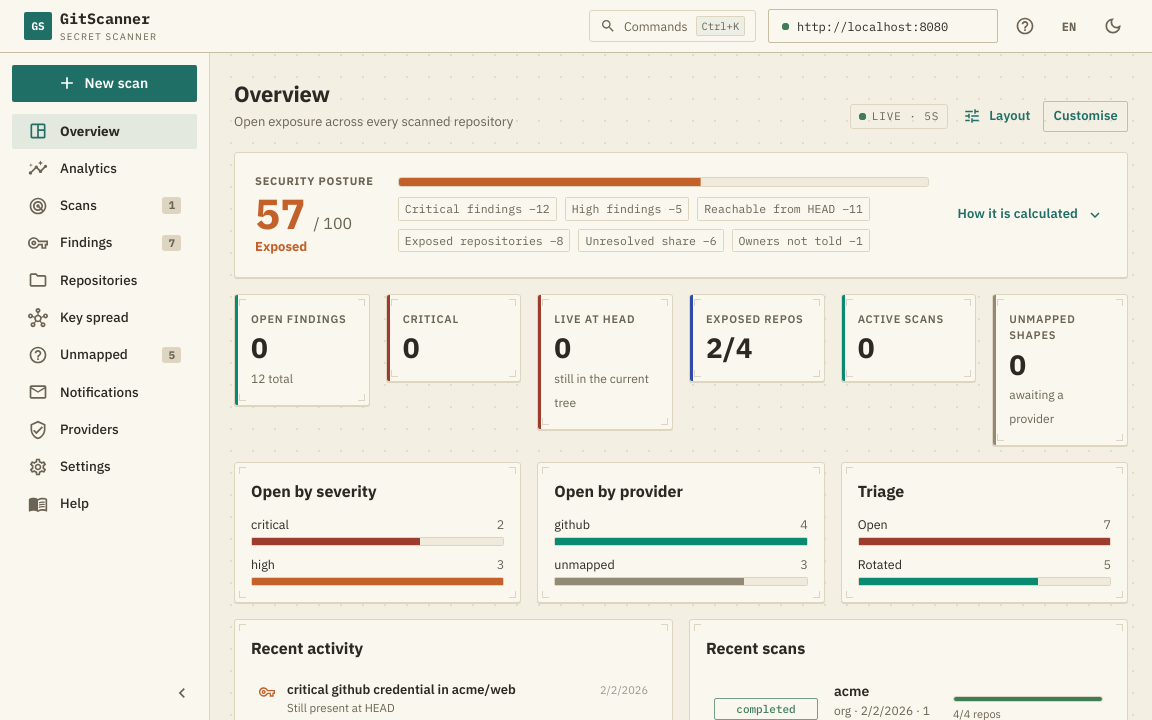
Test: overview › shows the posture score with its arithmetic behind a disclosure
This screenshot has width=1152, height=720.
Expected: the text "/ 100" is shown, [313,211,352,235]
Click the button "How it is calculated" at (1030, 214), box [952,199,1107,230]
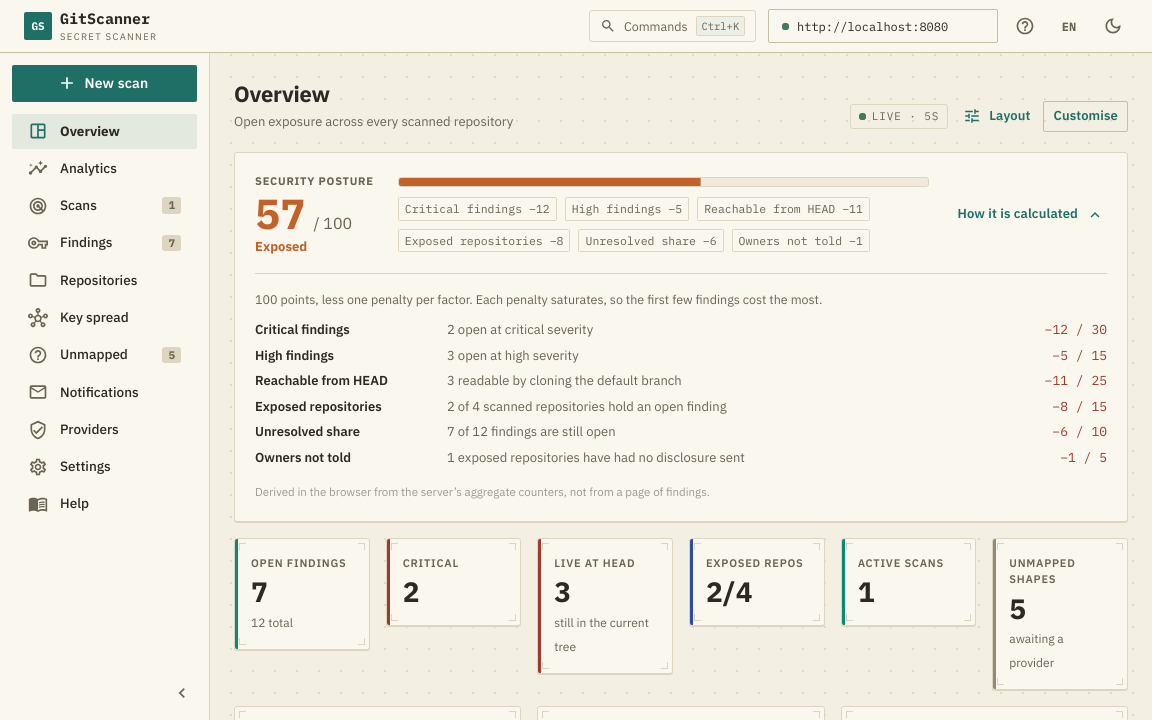
Expected: the text "Reachable from HEAD −11" is shown, [697,197,870,221]
Expected: the button "How it is calculated" is expanded, [952,199,1107,230]
